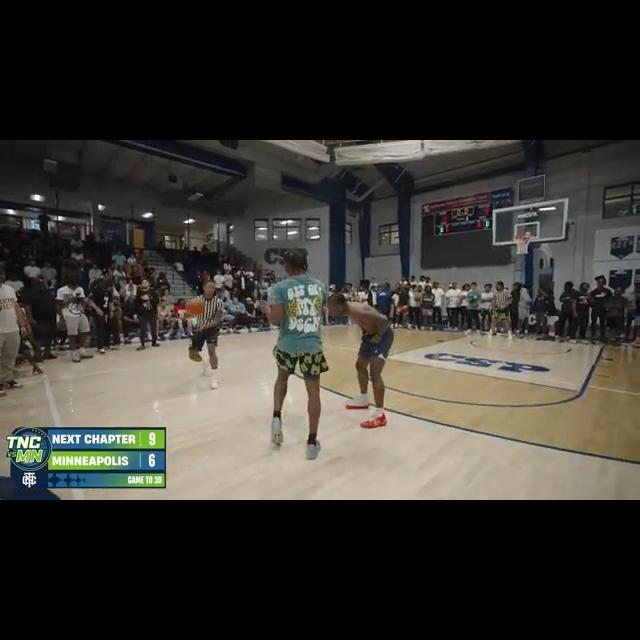basketball: (185, 294, 206, 319)
hoop: (513, 231, 532, 256)
